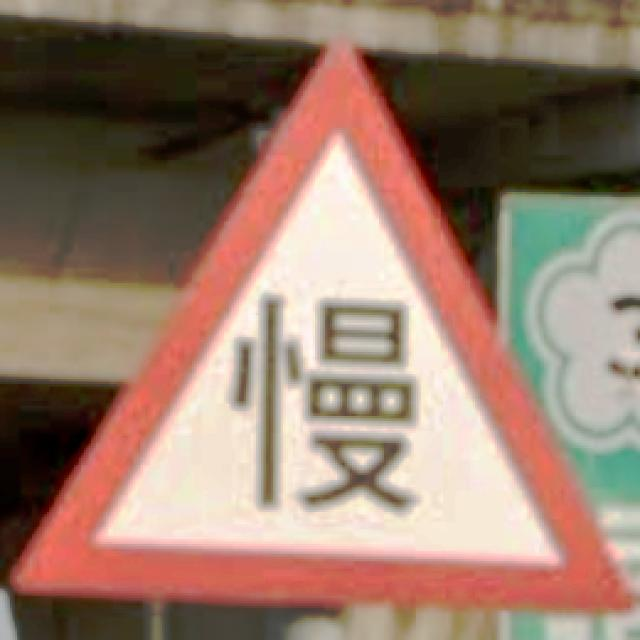slow: (10, 39, 634, 615)
